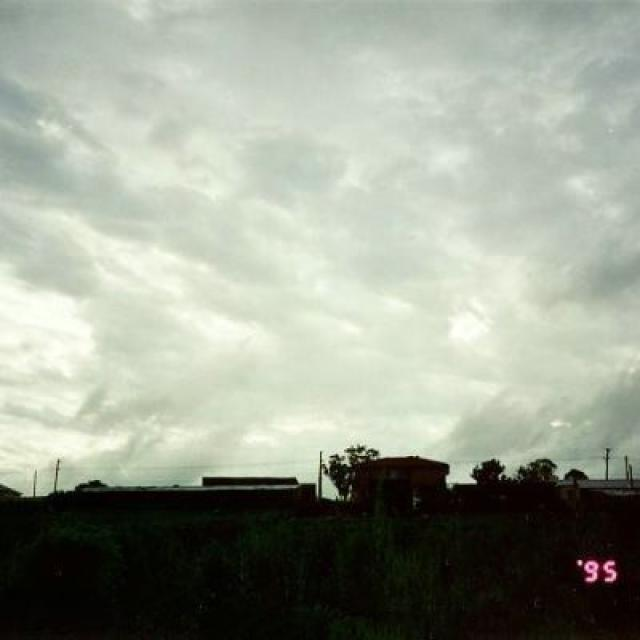St: (1, 53, 640, 446)
